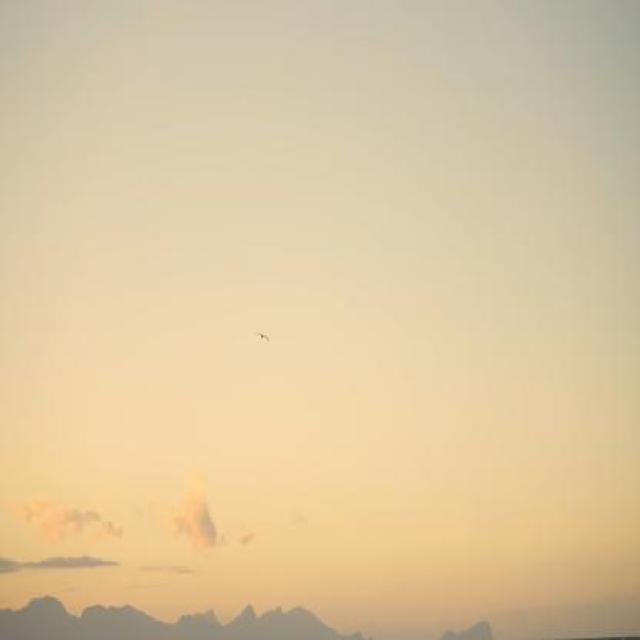bird: (253, 322, 270, 346)
